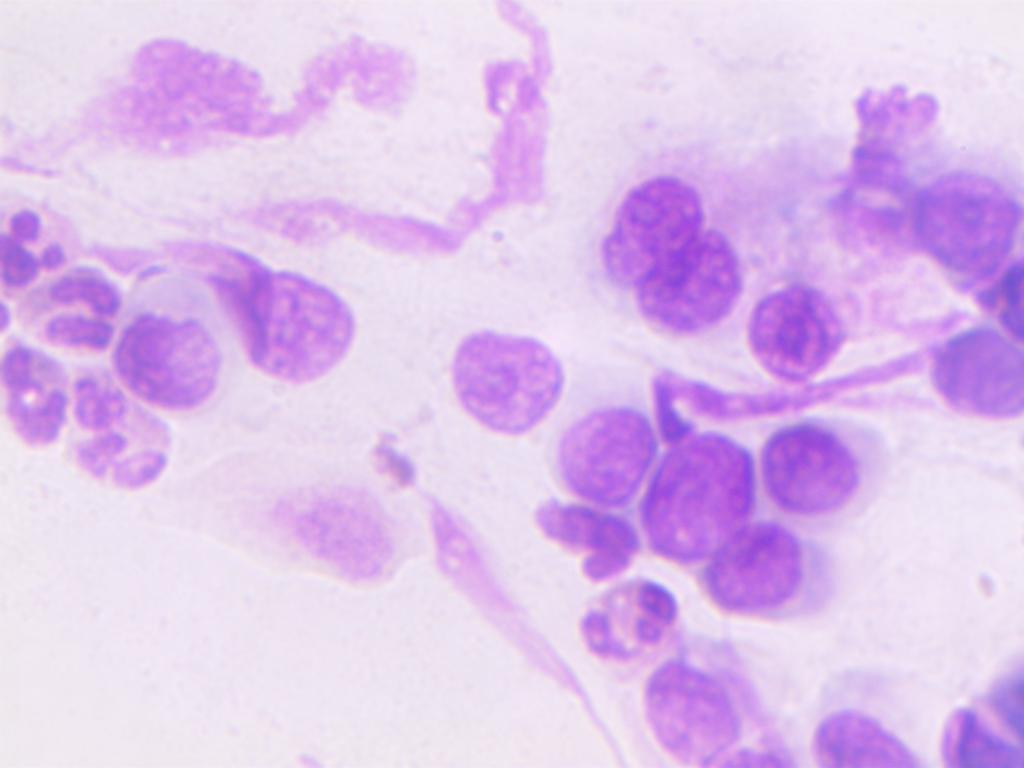epithelial: (211, 241, 375, 403), (639, 415, 754, 561), (902, 150, 1024, 284), (750, 415, 893, 524), (626, 652, 751, 768), (746, 232, 843, 379), (630, 214, 744, 338), (554, 357, 651, 499), (115, 275, 224, 401), (596, 159, 702, 288), (445, 320, 557, 437), (696, 520, 824, 613), (520, 486, 640, 580), (929, 300, 1024, 416), (936, 660, 1024, 768), (807, 694, 917, 768)
neutrophil: (68, 368, 181, 497), (570, 570, 693, 660), (14, 262, 131, 350), (0, 338, 80, 461), (0, 201, 76, 313)
